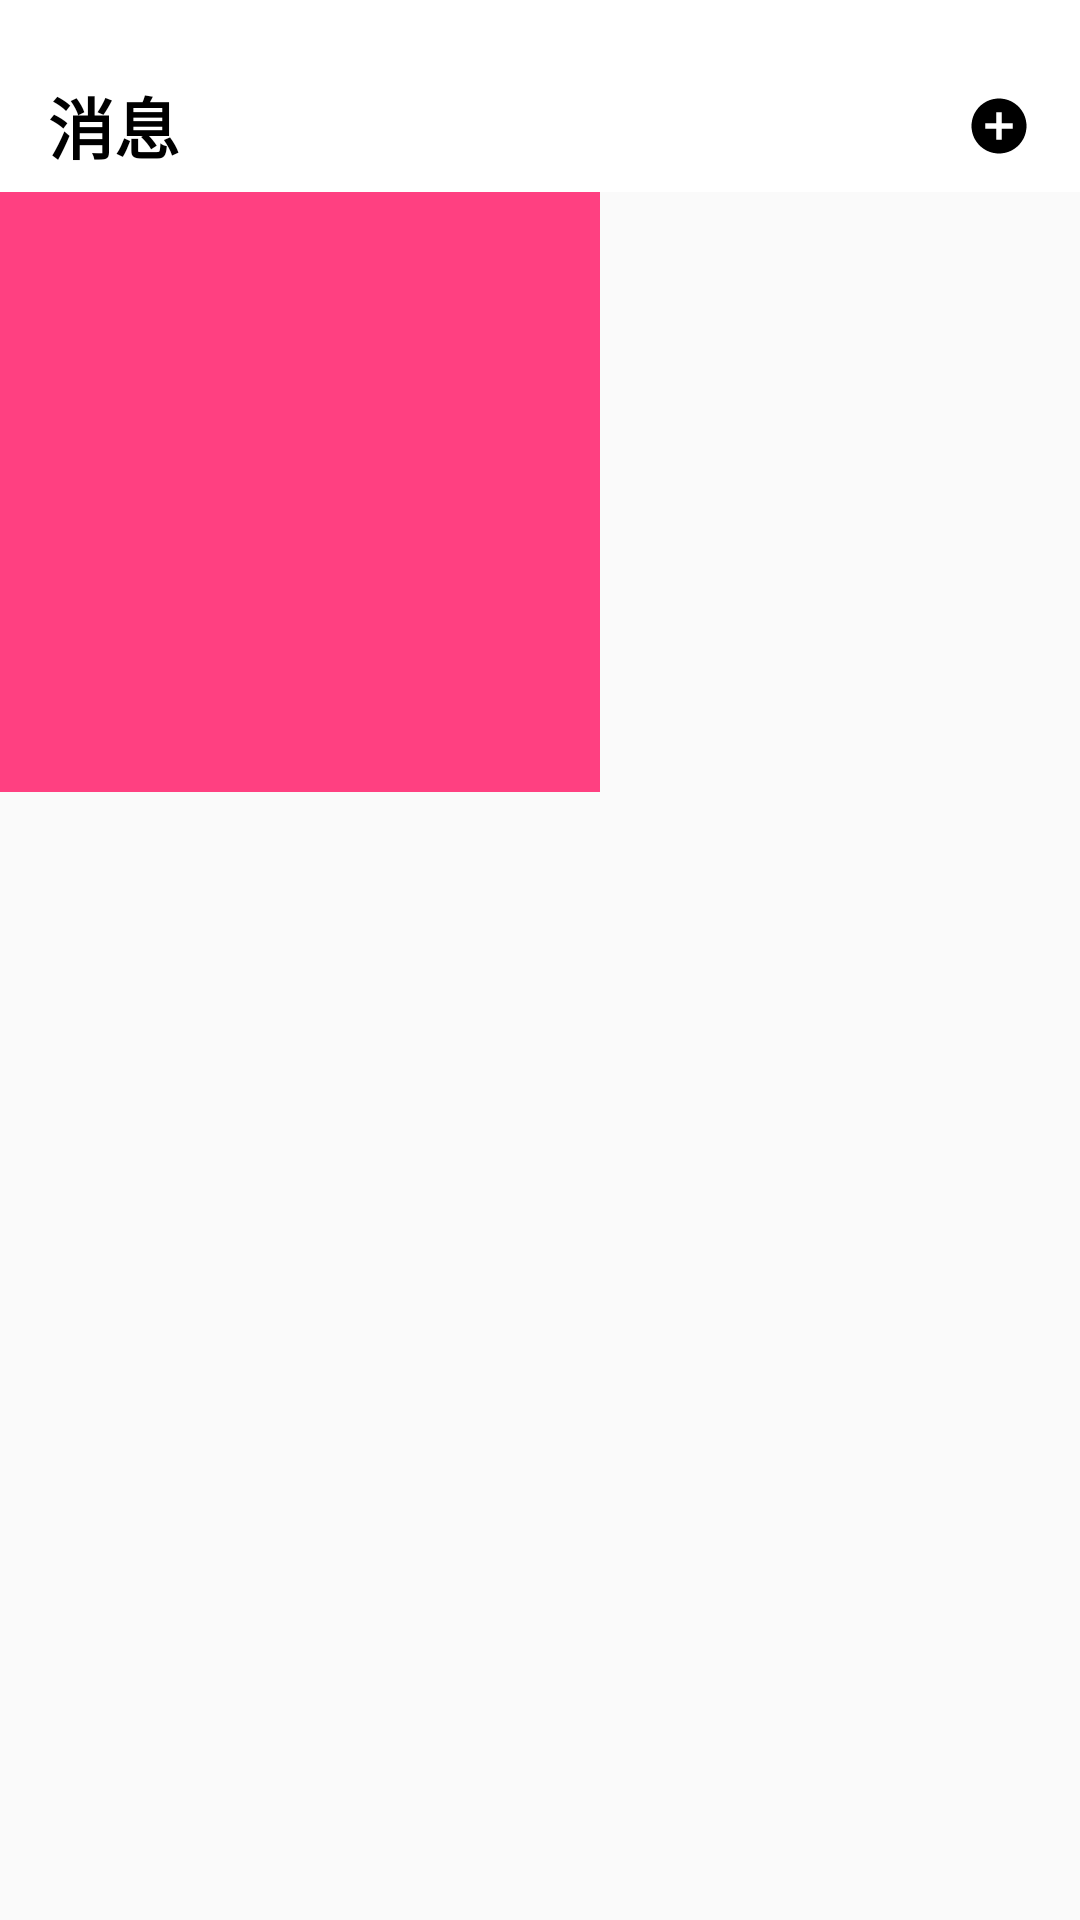

Icon bounding boxes for this 1080 x 1920 phone screenshot, format [left=x1, top=y1, right=x2, bottom=y2]:
add circle: [left=971, top=98, right=1027, bottom=154]
